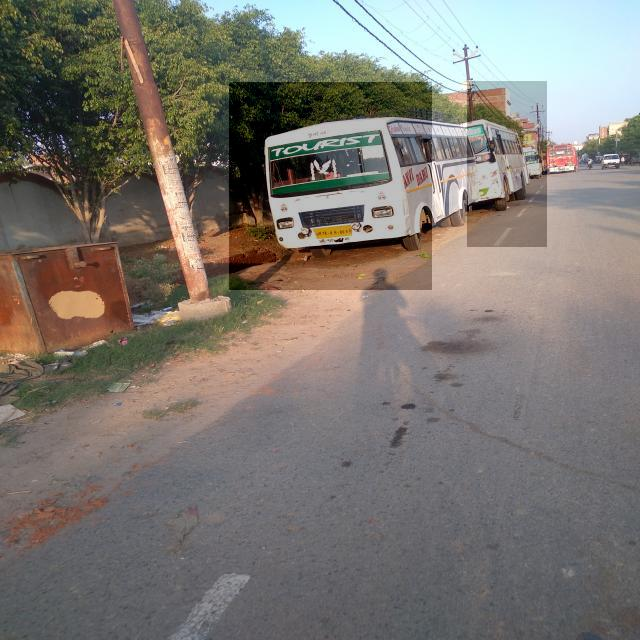Bus: (229, 82, 432, 290), (467, 81, 547, 247)
